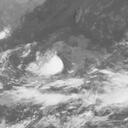cyclone: (36, 51, 80, 92)
